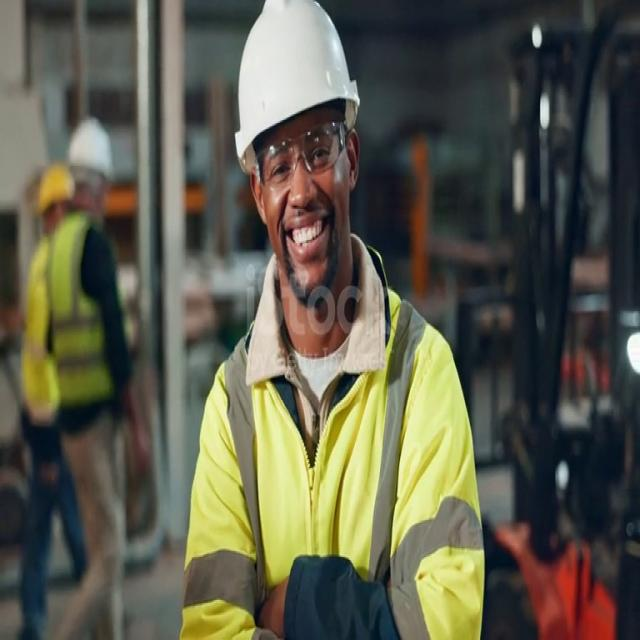capacete: (213, 6, 388, 182)
